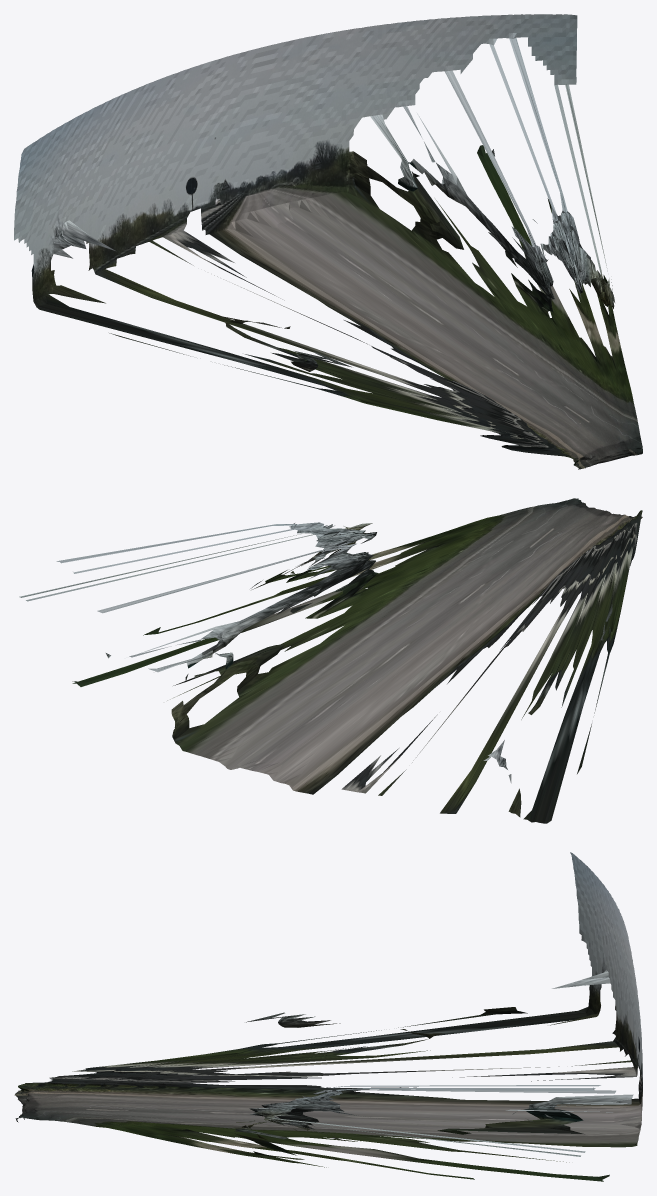
3 renders of one model, top to bottom at view 1: azimuth 30°, elevation 25°; view 2: azimuth 150°, elevation 25°; view 3: azimuth 270°, elevation 25°, orthographic. The views are drawn at different scales.
Visible parts, largest first — view 1: defaultobject; view 2: defaultobject; view 3: defaultobject.
Boxes of the visible parts, x1,y1,x2,y2 form: defaultobject: (14,14,642,469); defaultobject: (19,498,642,823); defaultobject: (14,852,642,1181).
Size of the model in its own units: 41.06 by 12.59 by 44.68.
Materials: 1 (1 with a texture image).
